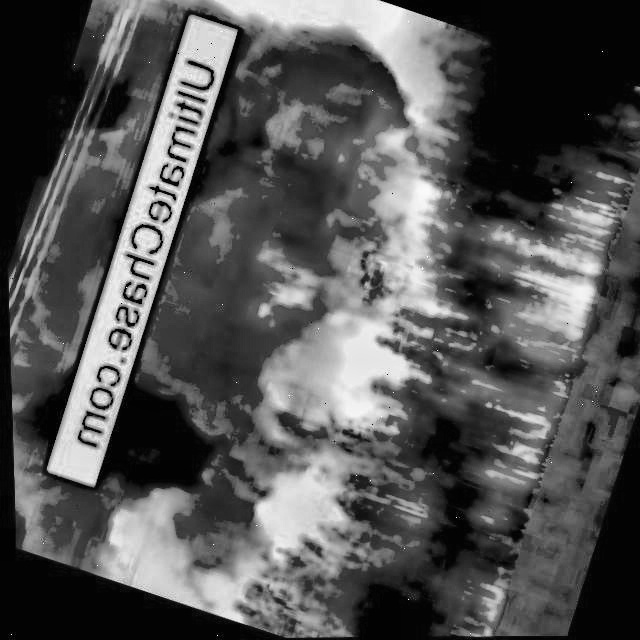Fire: (213, 109, 619, 484), (458, 583, 508, 637), (628, 84, 640, 104)
Smoke: (60, 1, 422, 621), (0, 0, 210, 549)
